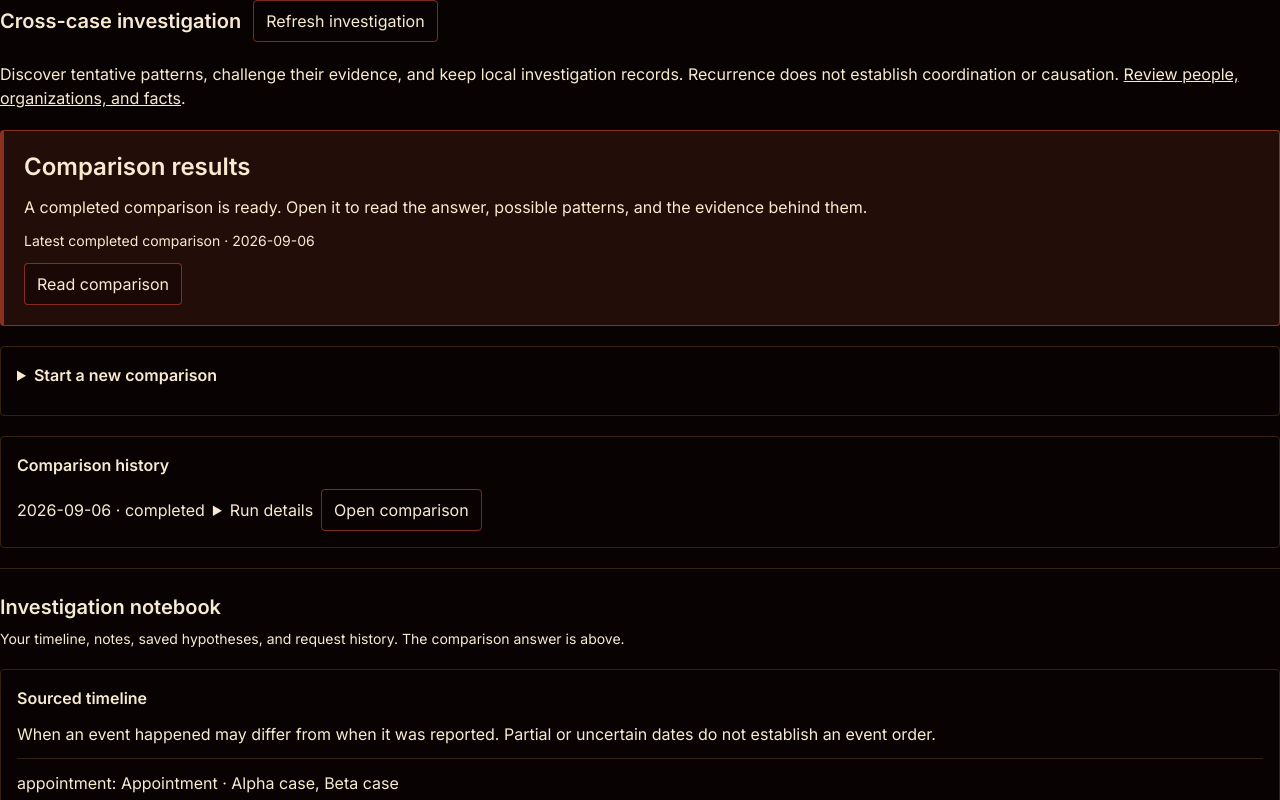
Test: Investigation workspace › opens a saved answer above setup and moves keyboard focus to the result
Click the button "Read comparison".
click(103, 284)  # box x1=24 y1=263 x2=182 y2=305
(page scrolled)
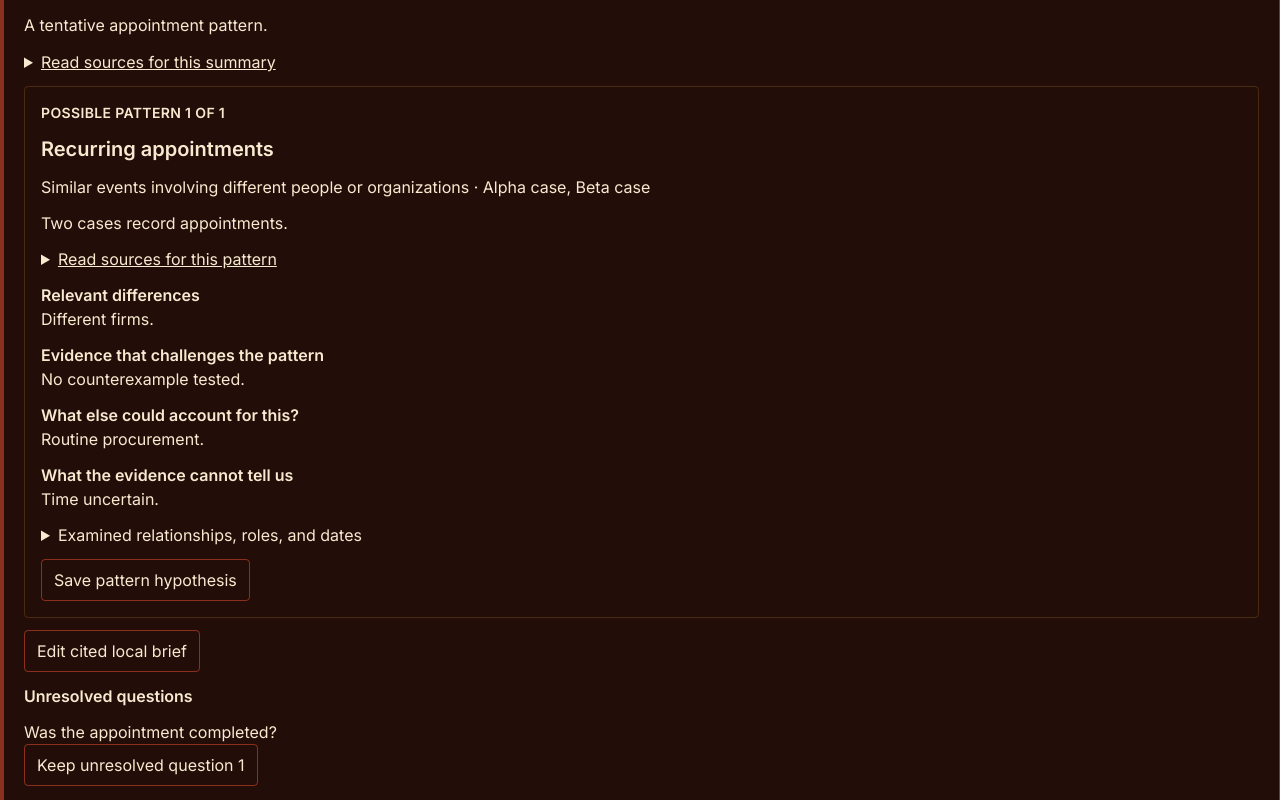
Check: the element named "Cross-case analysis" shows "A tentative appointment pattern.", box x1=24 y1=15 x2=268 y2=35
